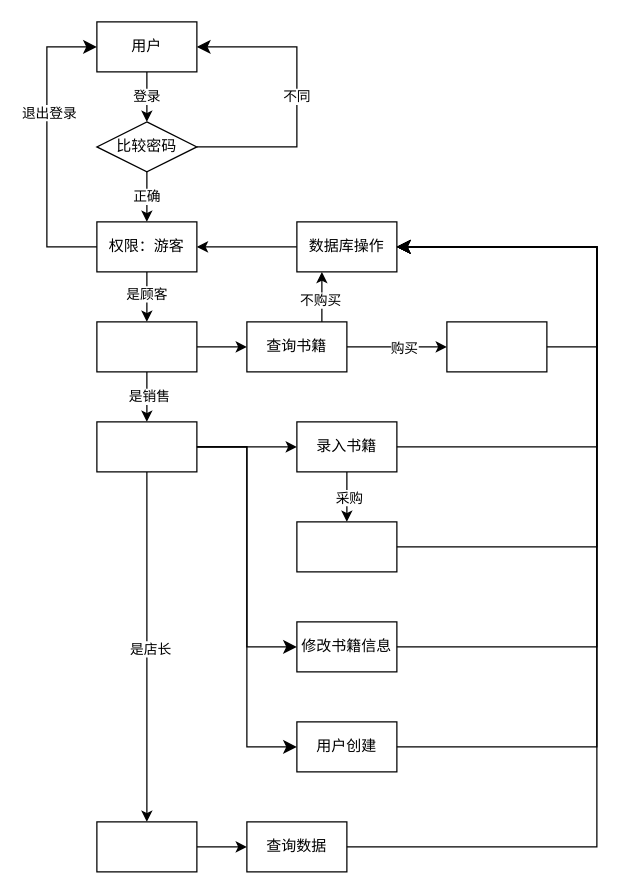
Image size: 631x894. Some labels were removed from this diagram. The centre of each missing label's shape, as x and y in pixels:
"权限：店长" goes at (x=146, y=846).
"权限：销售" goes at (x=146, y=446).
"权限：顾客" goes at (x=146, y=346).
"购买书籍" goes at (x=496, y=346).
"采购书籍" goes at (x=346, y=546).
